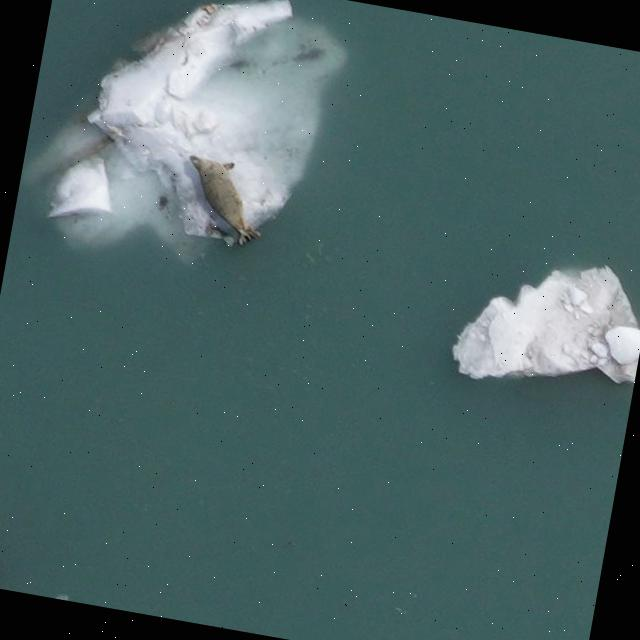seal: (189, 142, 260, 250)
